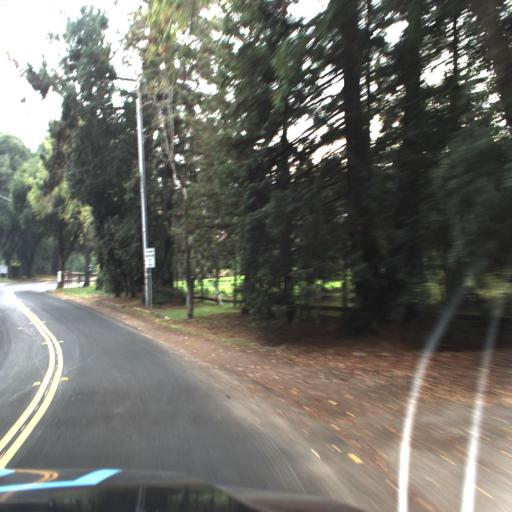car: (85, 261, 96, 280)
